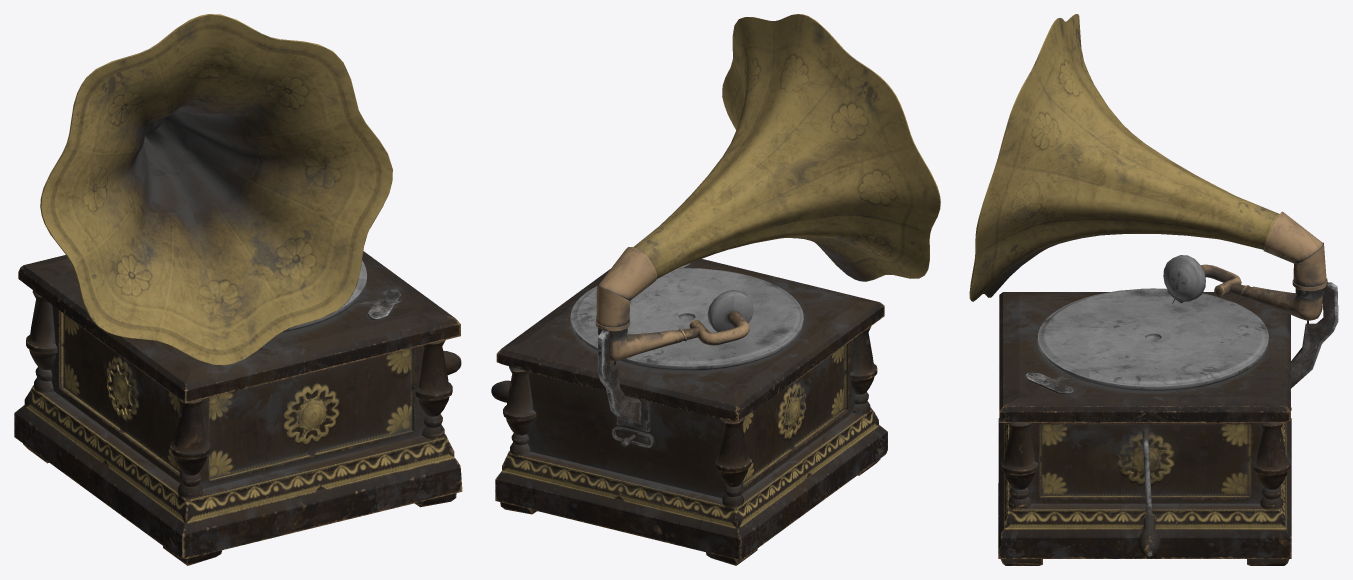
Rendered from gramaphone.glb.
3 views of the same model, side by side, from view 1: azimuth 30°, elevation 25°; view 2: azimuth 150°, elevation 25°; view 3: azimuth 270°, elevation 25° (orthographic). The views are drawn at different scales.
Parts seen in each view (by area): view 1: truba_low, base_low, klyapki_low, plastina_low, nojki_low; view 2: base_low, truba_low, plastina_low, igla_low; view 3: base_low, truba_low, plastina_low, igla_low, rukoyatka_low, klyapki_low, nojki_low.
Boxes of the visible parts, <box> form: truba_low: <box>40,14,392,365</box>; base_low: <box>14,251,462,558</box>; klyapki_low: <box>354,289,402,320</box>; plastina_low: <box>282,260,367,332</box>; nojki_low: <box>23,443,456,565</box>; base_low: <box>495,259,887,560</box>; truba_low: <box>595,14,940,331</box>; plastina_low: <box>570,268,803,370</box>; igla_low: <box>609,290,753,365</box>; base_low: <box>998,282,1338,558</box>; truba_low: <box>969,14,1327,301</box>; plastina_low: <box>1037,288,1268,391</box>; igla_low: <box>1163,255,1323,324</box>; rukoyatka_low: <box>1138,428,1160,558</box>; klyapki_low: <box>1026,291,1305,394</box>; nojki_low: <box>1000,559,1289,565</box>.
Size of the model in its own units: 0.9211 by 0.9816 by 0.7244.
1 material, 1 textured.
